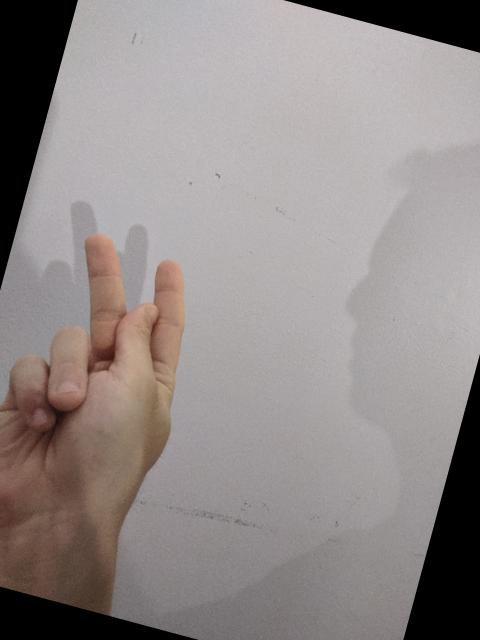K: (0, 210, 226, 579)
